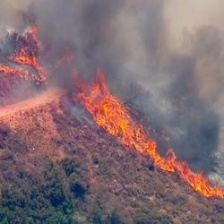fire: (5, 18, 224, 197)
smoke: (83, 5, 221, 102)
